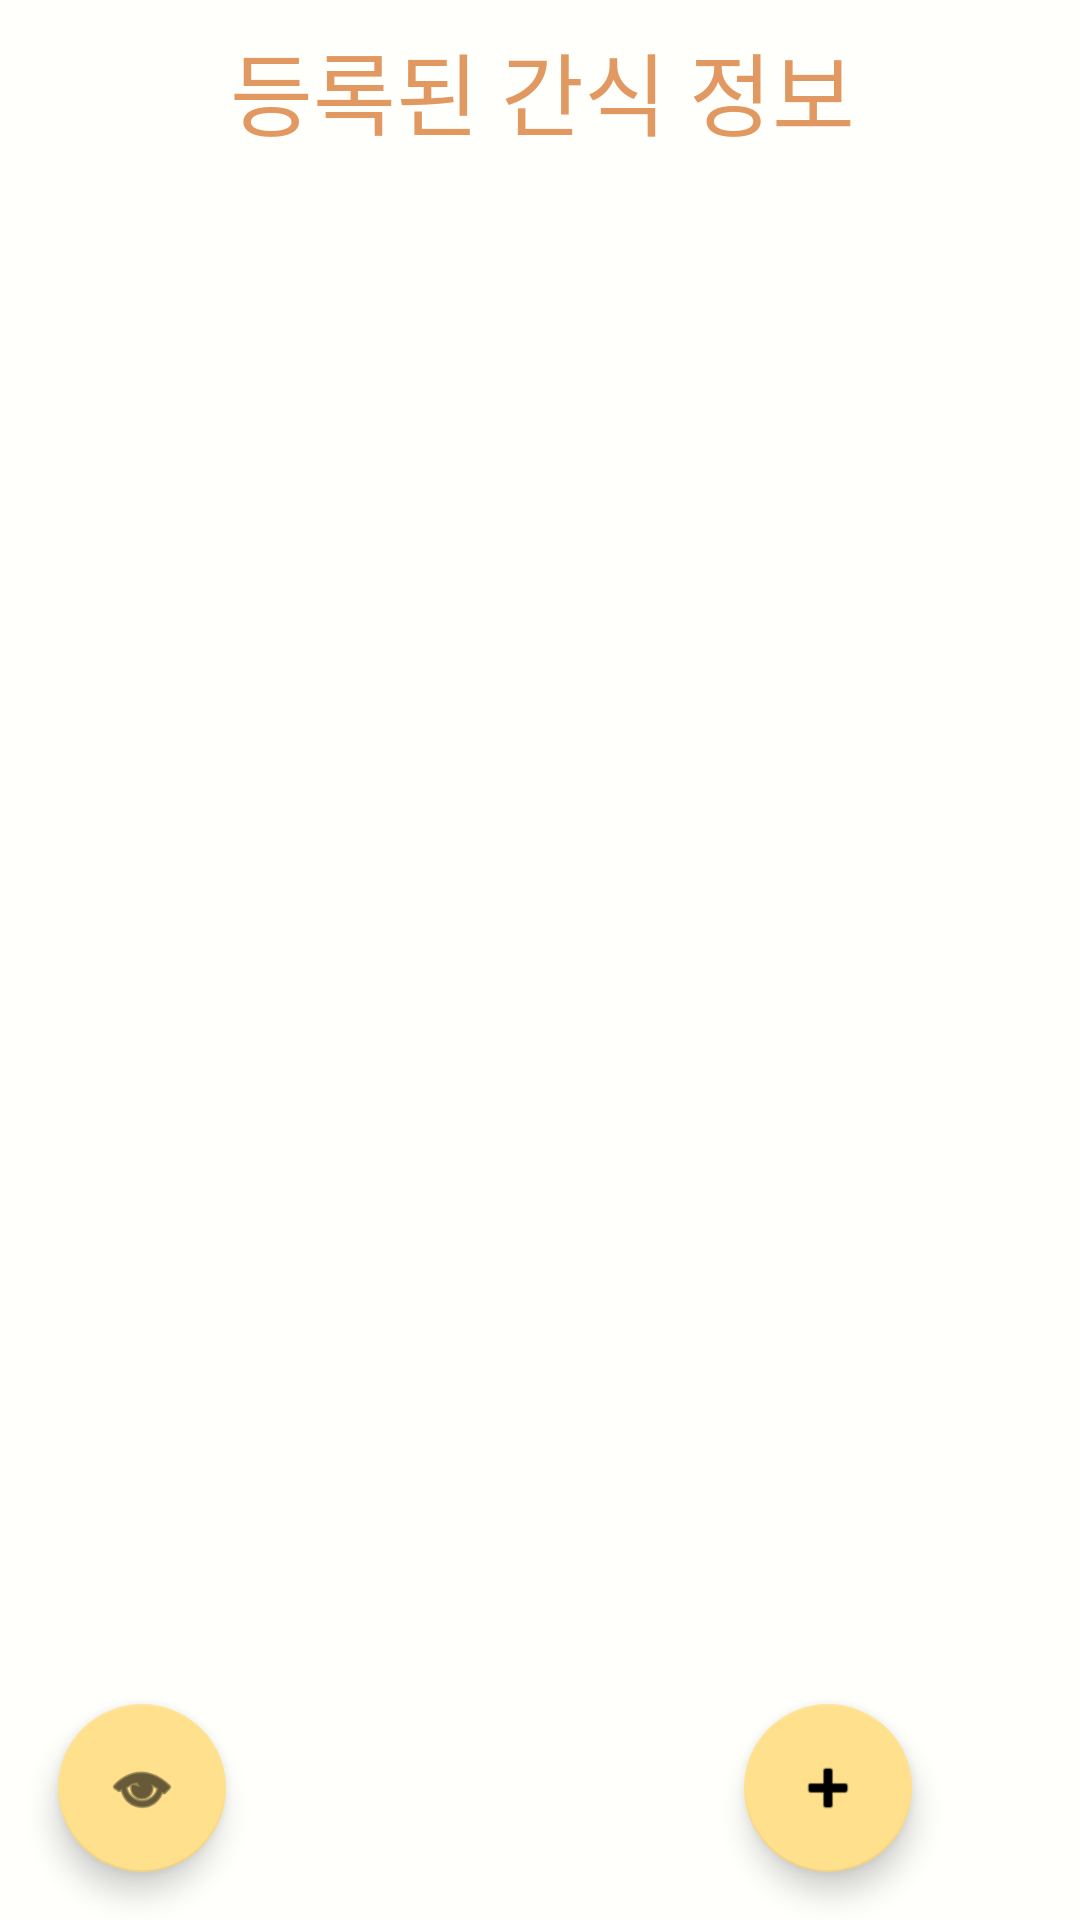

Screen size 1080*1920. Icon name, then its center in pixels as point (x, y):
add: point (828, 1788)
view: point (142, 1788)
